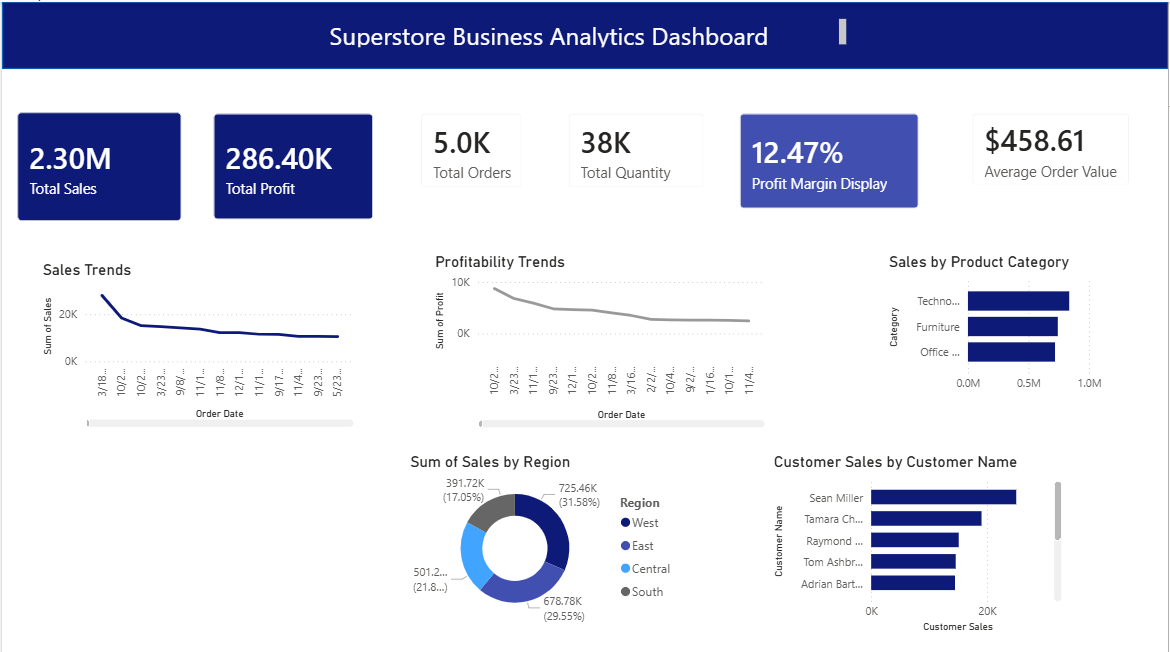

What the dashboard file says about the page in this screenshot:
{"tool":"powerbi","page":{"name":"Page 1","canvas":[1280,720],"ordinal":0},"visuals":[{"type":"cardVisual","fields":{"Data":["Sample - Superstore.Total Sales"]},"box":[0,104,214.8,153.4],"z":0},{"type":"cardVisual","fields":{"Data":["Sample - Superstore.Total Profit"]},"box":[214.8,105.7,209.7,150],"z":1000},{"type":"cardVisual","fields":{"Data":["Sample - Superstore.Total Orders"]},"box":[443.2,105.7,144.9,115.9],"z":2000},{"type":"cardVisual","fields":{"Data":["Sample - Superstore.Total Quantity"]},"box":[605.1,105.7,182.4,115.9],"z":3000},{"type":"cardVisual","fields":{"Data":["Sample - Superstore.Profit Margin %"]},"box":[792.6,105.7,230.1,138.1],"z":4000},{"type":"cardVisual","fields":{"Data":["Sample - Superstore.Average Order Value"]},"box":[1048.3,105.7,206.3,112.5],"z":5000},{"type":"lineChart","title":"Sales Trends","fields":{"Category":["Sample - Superstore.Order Date"],"Y":["Sum(Sample - Superstore.Sales)"]},"box":[39.2,284.7,351.1,187.5],"z":6000},{"type":"lineChart","title":"Profitability Trends","fields":{"Category":["Sample - Superstore.Order Date"],"Y":["Sum(Sample - Superstore.Profit)"]},"box":[470.5,274.4,371.6,197.7],"z":7000},{"type":"clusteredBarChart","title":"Sales by Product Category","fields":{"Category":["Sample - Superstore.Category"],"Y":["Sum(Sample - Superstore.Sales)"]},"box":[968.2,274.4,243.8,161.9],"z":8000},{"type":"donutChart","fields":{"Category":["Sample - Superstore.Region"],"Y":["Sum(Sample - Superstore.Sales)"]},"box":[443.2,494.3,305.1,192.6],"z":9000},{"type":"clusteredBarChart","fields":{"Category":["Sample - Superstore.Customer Name"],"Y":["Sample - Superstore.Customer Sales"]},"box":[842.1,494.3,325.6,202.8],"z":10000},{"type":"shape","box":[0,0,1280.1,73.3],"z":11000},{"type":"textbox","box":[277.8,13.6,654.6,40.9],"z":12000}]}

Visuals, with their boxes in screenshot pixels (x1, y1, x2, y2), scaled from the page's 1280x720 canvas onto the 1170x652 screenshot:
cardVisual - Sample - Superstore.Total Sales: {"left": 0, "top": 94, "right": 196, "bottom": 233}
cardVisual - Sample - Superstore.Total Profit: {"left": 196, "top": 96, "right": 388, "bottom": 232}
cardVisual - Sample - Superstore.Total Orders: {"left": 405, "top": 96, "right": 538, "bottom": 201}
cardVisual - Sample - Superstore.Total Quantity: {"left": 553, "top": 96, "right": 720, "bottom": 201}
cardVisual - Sample - Superstore.Profit Margin %: {"left": 724, "top": 96, "right": 935, "bottom": 221}
cardVisual - Sample - Superstore.Average Order Value: {"left": 958, "top": 96, "right": 1147, "bottom": 198}
"Sales Trends" lineChart: {"left": 36, "top": 258, "right": 357, "bottom": 428}
"Profitability Trends" lineChart: {"left": 430, "top": 248, "right": 770, "bottom": 428}
"Sales by Product Category" clusteredBarChart: {"left": 885, "top": 248, "right": 1108, "bottom": 395}
donutChart - Sample - Superstore.Region x Sum(Sample - Superstore.Sales): {"left": 405, "top": 448, "right": 684, "bottom": 622}
clusteredBarChart - Sample - Superstore.Customer Name x Sample - Superstore.Customer Sales: {"left": 770, "top": 448, "right": 1067, "bottom": 631}
shape: {"left": 0, "top": 0, "right": 1169, "bottom": 66}
textbox: {"left": 254, "top": 12, "right": 852, "bottom": 49}
